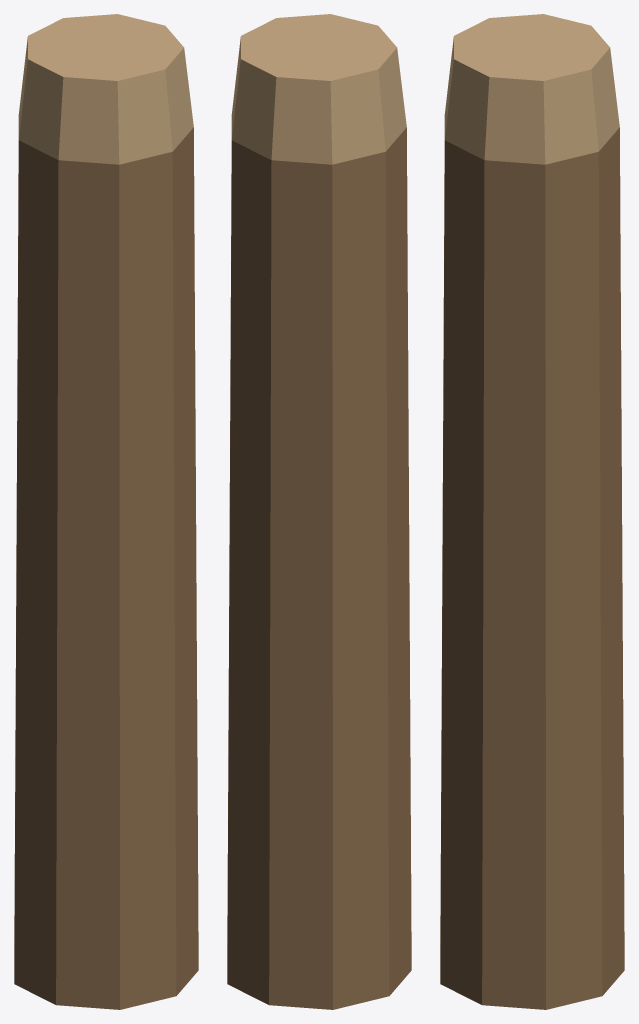
The model's file is fixture_build.glb.
The picture shows the model from 3 angles, left to right: view 1: azimuth 30°, elevation 25°; view 2: azimuth 150°, elevation 25°; view 3: azimuth 270°, elevation 25°; orthographic projection.
Visible parts, largest first — view 1: Action setting; view 2: Action setting; view 3: Action setting.
Part boxes in pixels (x1,y1,x2,y2): Action setting: (14,14,198,1009); Action setting: (227,14,411,1009); Action setting: (440,14,624,1009).
Bounding box in the file's own units: 0.1278 × 0.695 × 0.1259.
